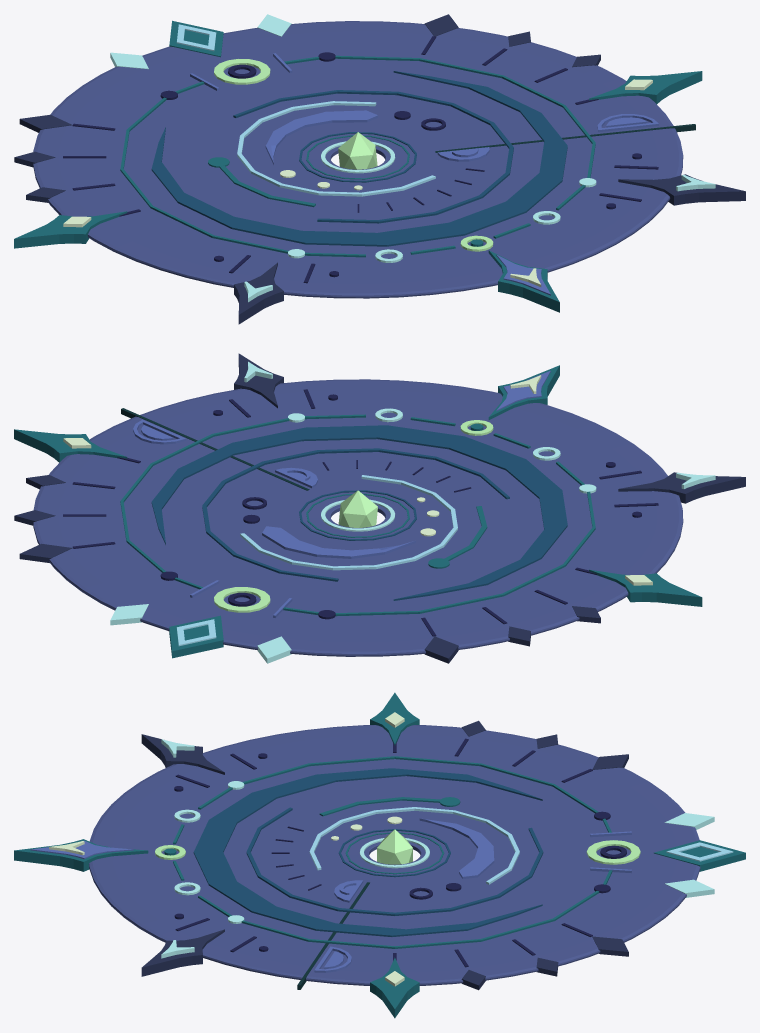
File: flat star_st3.fbx
The picture shows the model from 3 angles, top to bottom: view 1: azimuth 30°, elevation 25°; view 2: azimuth 150°, elevation 25°; view 3: azimuth 270°, elevation 25°; orthographic projection. The views are drawn at different scales.
Visible parts, largest first — view 1: center_flat, moon_crescent, edge_art_ring1, center_art_ring7, center_art_ring5, edge_art_arrow6, edge_art_arrow8, edge_art_arrow10, center_art_ring4, edge_art_arrow4, moon_half, edge_art_arrow1 (+9 smaller); view 2: center_flat, moon_crescent, edge_art_ring1, center_art_ring7, center_art_ring5, edge_art_arrow6, edge_art_arrow4, edge_art_arrow10, center_art_ring4, edge_art_dia1, moon_half, center_star (+12 smaller); view 3: center_flat, moon_crescent, edge_art_ring1, center_art_ring7, center_art_ring5, edge_art_arrow8, edge_art_arrow1, edge_art_arrow10, center_art_ring4, edge_art_arrow4, edge_art_dia1, moon_half (+8 smaller).
Boxes of the visible parts, x1,y1,x2,y2 form: center_flat: [33, 21, 683, 298]; moon_crescent: [151, 71, 567, 246]; edge_art_ring1: [120, 55, 595, 257]; center_art_ring7: [233, 90, 513, 223]; center_art_ring5: [237, 101, 435, 196]; edge_art_arrow6: [14, 211, 127, 248]; edge_art_arrow8: [618, 174, 745, 205]; edge_art_arrow10: [589, 71, 702, 104]; center_art_ring4: [265, 110, 377, 164]; edge_art_arrow4: [234, 262, 283, 324]; moon_half: [437, 114, 658, 161]; edge_art_arrow1: [488, 250, 559, 312]; center_flat: [33, 379, 683, 656]; moon_crescent: [151, 425, 567, 600]; edge_art_ring1: [120, 414, 595, 616]; center_art_ring7: [202, 448, 509, 581]; center_art_ring5: [240, 475, 457, 570]; edge_art_arrow6: [589, 569, 702, 606]; edge_art_arrow4: [618, 472, 745, 503]; edge_art_arrow10: [14, 429, 127, 462]; center_art_ring4: [262, 526, 415, 558]; edge_art_dia1: [169, 615, 223, 658]; moon_half: [133, 419, 317, 488]; center_star: [338, 490, 377, 527]; center_flat: [89, 725, 700, 985]; moon_crescent: [193, 768, 542, 936]; edge_art_ring1: [173, 756, 612, 948]; center_art_ring7: [246, 807, 543, 915]; center_art_ring5: [309, 807, 519, 884]; edge_art_arrow8: [141, 929, 224, 976]; edge_art_arrow1: [14, 839, 148, 871]; edge_art_arrow10: [370, 957, 419, 1018]; center_art_ring4: [419, 818, 494, 878]; edge_art_arrow4: [141, 734, 224, 774]; edge_art_dia1: [654, 840, 745, 871]; moon_half: [314, 880, 363, 972].
Bounding box in the file's own units: 243 × 18.75 × 237.
